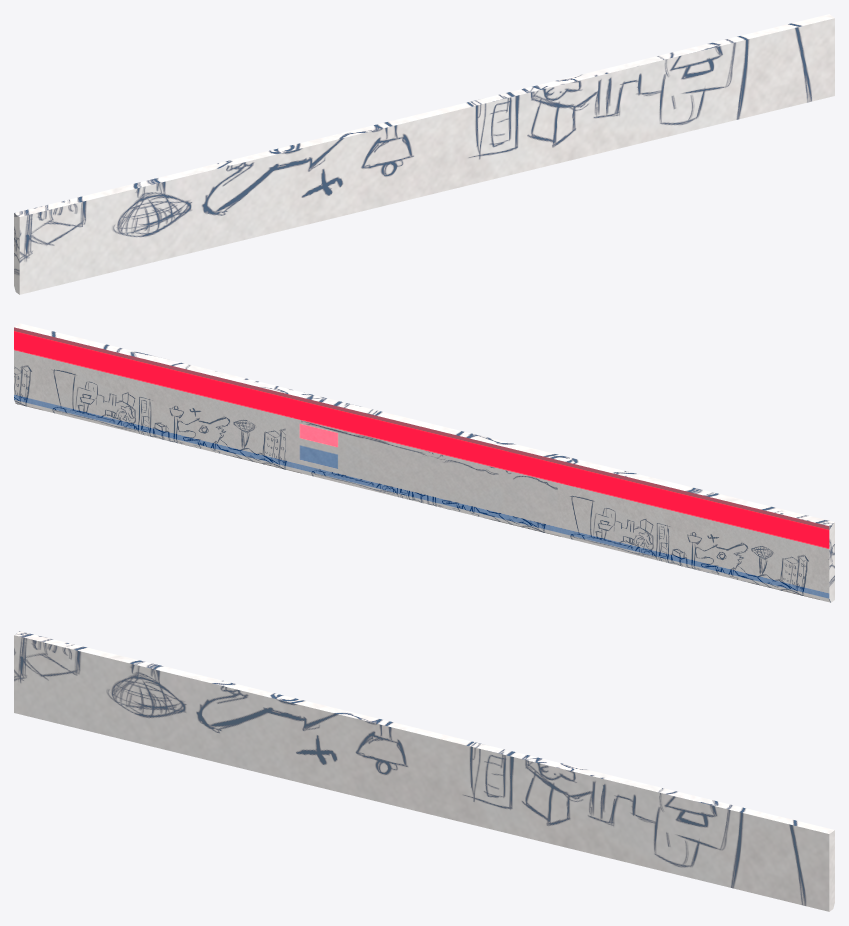
File: neon_Sign.fbx
3 renders of one model, top to bottom at view 1: azimuth 30°, elevation 25°; view 2: azimuth 150°, elevation 25°; view 3: azimuth 330°, elevation 25°, orthographic.
Visible parts, largest first — view 1: neon_sign; view 2: neon_sign; view 3: neon_sign.
Boxes of the visible parts, x1,y1,x2,y2 form: neon_sign: (14,14,834,294); neon_sign: (14,323,834,602); neon_sign: (14,631,834,911).
Size of the model in its own units: 966 by 88.06 by 11.51.
